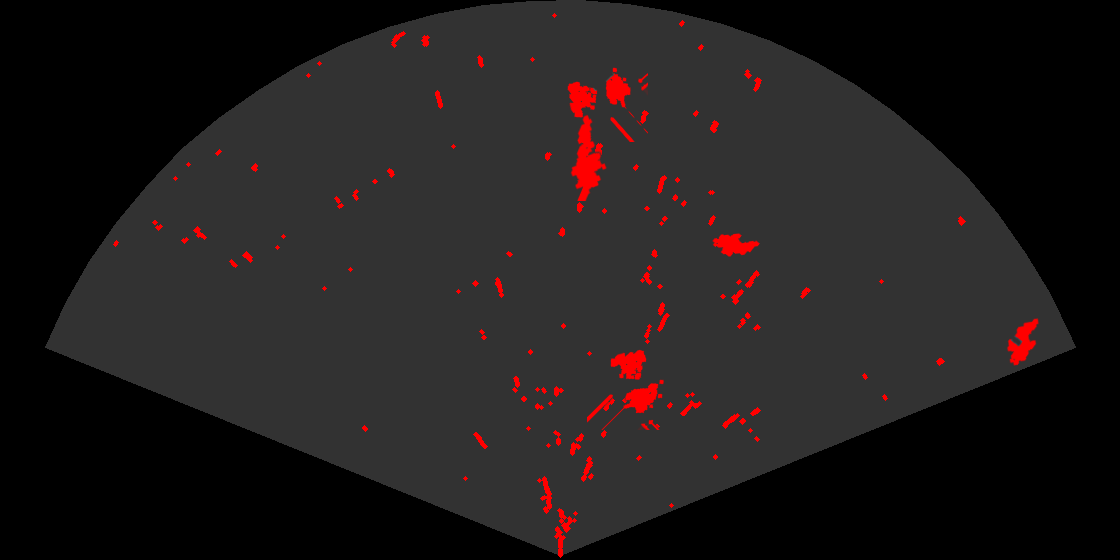AUV: (1005, 317, 1041, 367), (711, 232, 761, 258)
cage: (587, 348, 665, 430), (566, 66, 648, 142)
frogman: (569, 113, 608, 201)
